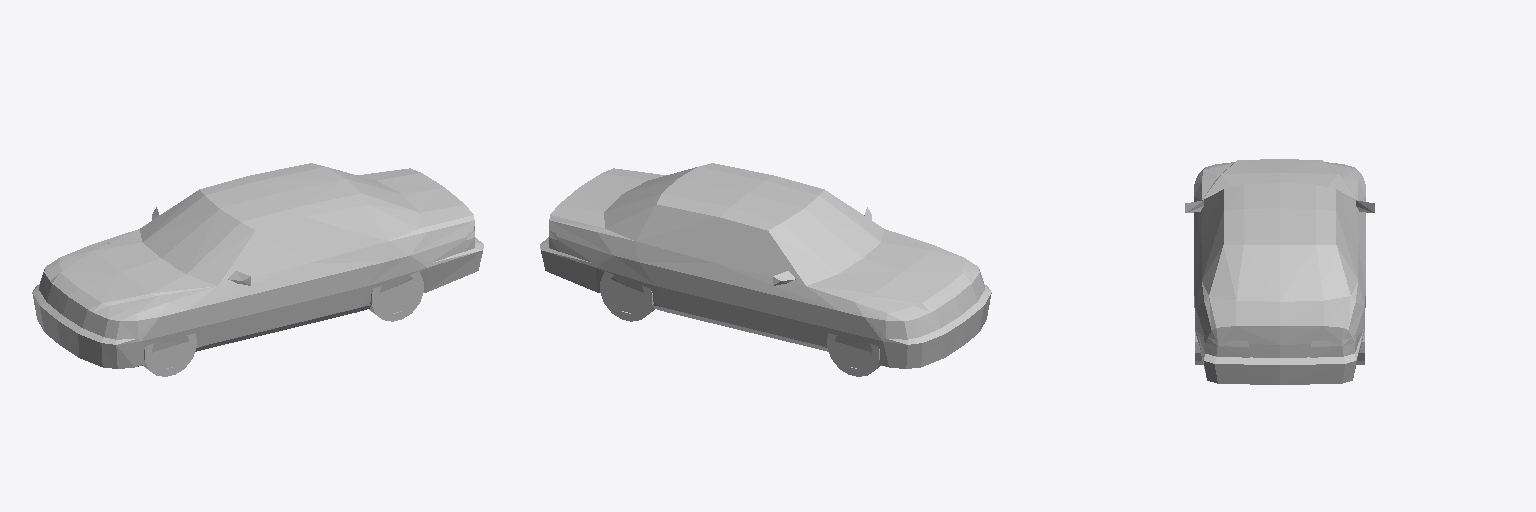
The model's file is test_celsior2.obj.
3 renders of one model, left to right at view 1: azimuth 30°, elevation 25°; view 2: azimuth 150°, elevation 25°; view 3: azimuth 270°, elevation 25°, orthographic.
Parts seen in each view (by area): view 1: celsior; view 2: celsior; view 3: celsior.
Part boxes in pixels (left/top/right/bottom): celsior: left=32, top=163, right=483, bottom=376; celsior: left=540, top=163, right=991, bottom=376; celsior: left=1185, top=159, right=1374, bottom=384.
Bounding box in the file's own units: 7.88 × 2.19 × 3.25.